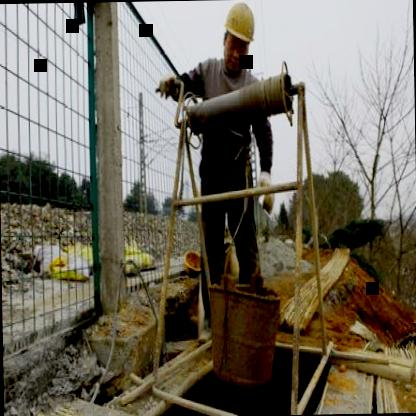helmet: (217, 0, 258, 77)
